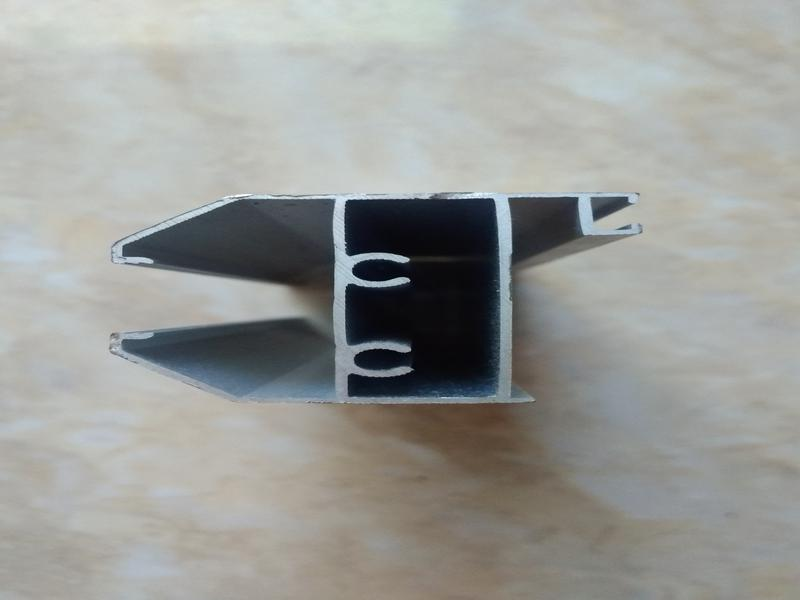Aluminium_3: (88, 152, 685, 444)
